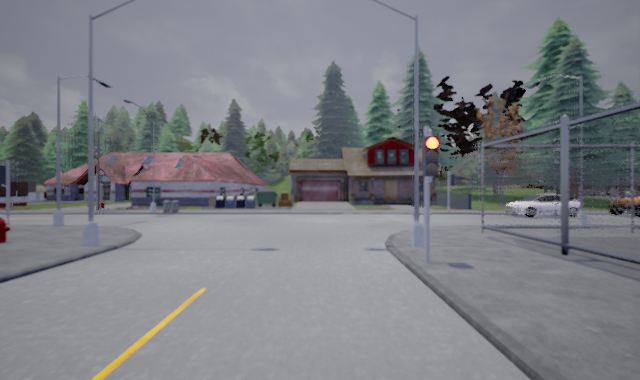vehicle: (501, 193, 582, 217), (608, 188, 639, 217)
